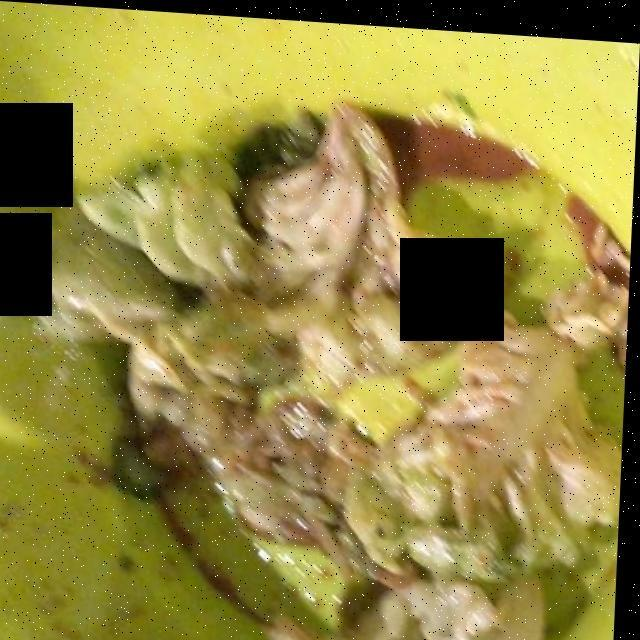salad: (15, 103, 628, 639)
sauce: (132, 107, 631, 640)
